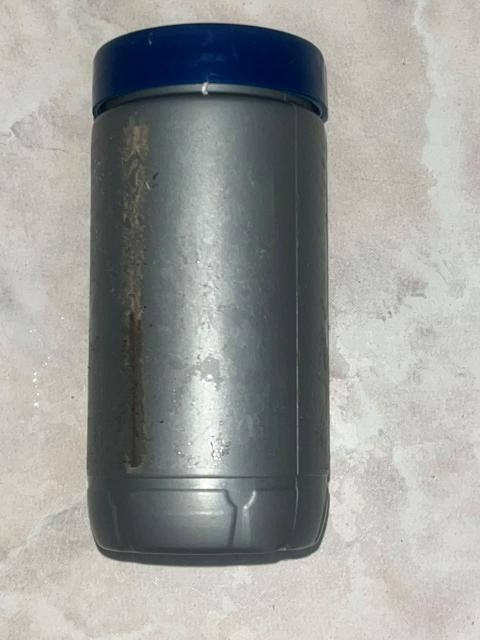HDPE: (86, 19, 338, 567)
